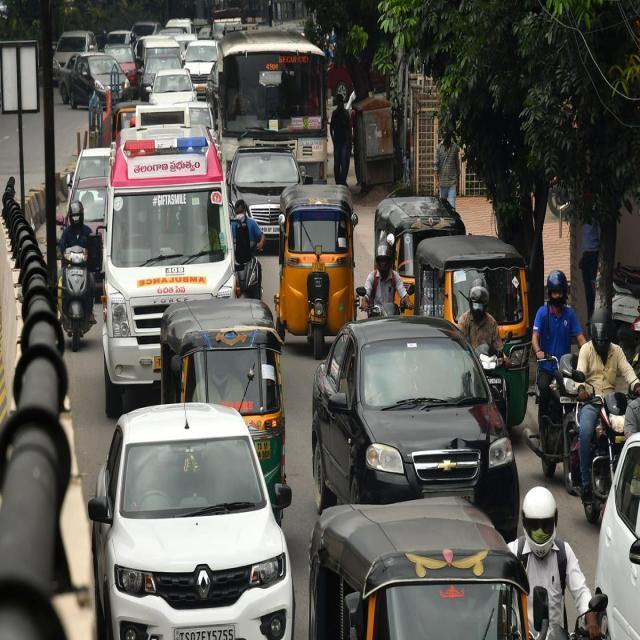Ambulance: (14, 25, 632, 638), (85, 399, 296, 638), (308, 313, 521, 536), (98, 123, 240, 419), (305, 494, 534, 638), (409, 231, 534, 431), (205, 23, 331, 186), (271, 181, 360, 360), (504, 484, 604, 638), (354, 248, 413, 320), (401, 546, 492, 581)
